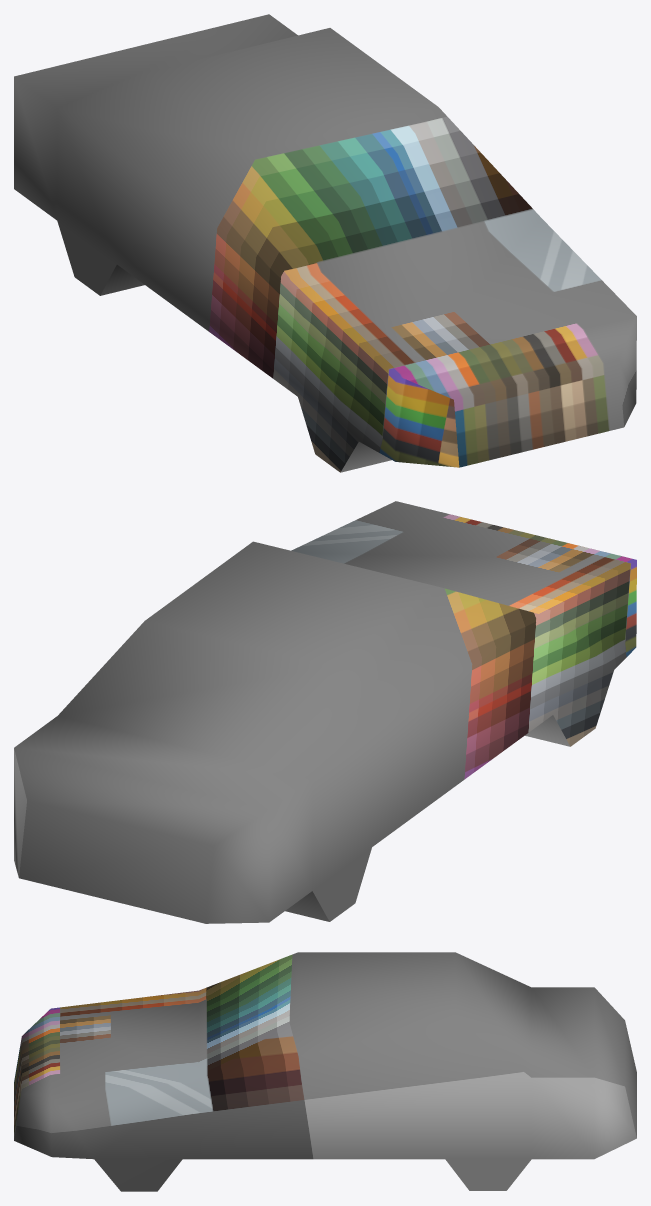
Rendered from SM_Prop_Veh_Car_01.fbx.
3 views of the same model, one above another, from view 1: azimuth 30°, elevation 25°; view 2: azimuth 150°, elevation 25°; view 3: azimuth 270°, elevation 25° (orthographic). The views are drawn at different scales.
Parts seen in each view (by area): view 1: SM_Prop_Veh_Car_01; view 2: SM_Prop_Veh_Car_01; view 3: SM_Prop_Veh_Car_01.
Boxes of the visible parts, left/top/right/bottom form: SM_Prop_Veh_Car_01: left=14, top=14, right=636, bottom=472; SM_Prop_Veh_Car_01: left=14, top=501, right=636, bottom=923; SM_Prop_Veh_Car_01: left=14, top=952, right=636, bottom=1191.
Bounding box in the file's own units: 206 × 172 × 601.
Materials: 1 (1 with a texture image).
